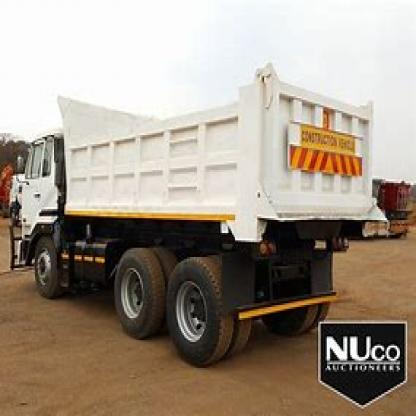dump_truck: (12, 56, 385, 374)
